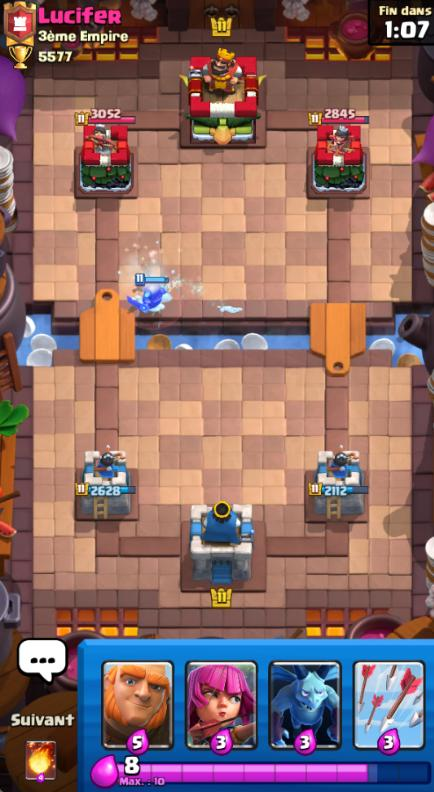mini_PEKKA: (127, 281, 172, 318)
